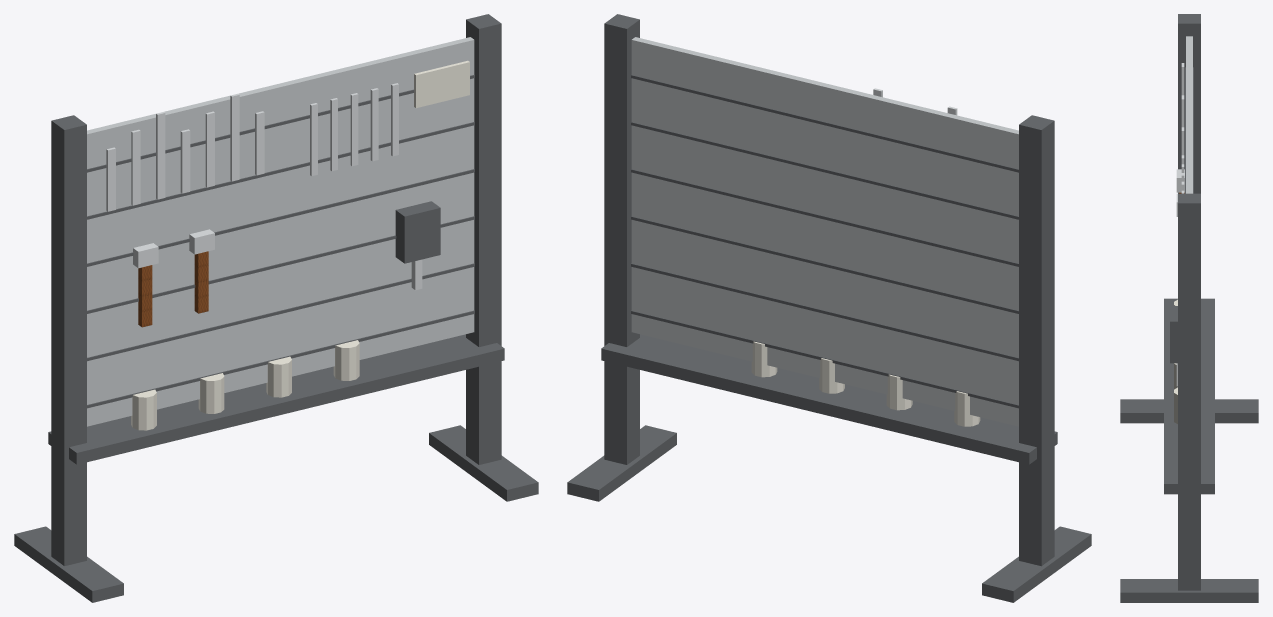
Rendered from pegboard-tool-wall-on-a-stand.glb.
3 views of the same model, side by side, from view 1: azimuth 30°, elevation 25°; view 2: azimuth 150°, elevation 25°; view 3: azimuth 270°, elevation 25° (orthographic). The views are drawn at different scales.
Visible parts, largest first — view 1: machine-shop-and-factory-hall-pegboard-tool-wall; view 2: machine-shop-and-factory-hall-pegboard-tool-wall; view 3: machine-shop-and-factory-hall-pegboard-tool-wall.
Part boxes in pixels (x1,y1,x2,y2): machine-shop-and-factory-hall-pegboard-tool-wall: (14, 14, 538, 602); machine-shop-and-factory-hall-pegboard-tool-wall: (567, 14, 1091, 602); machine-shop-and-factory-hall-pegboard-tool-wall: (1120, 14, 1258, 602).
Bounding box in the file's own units: 1.98 × 1.9 × 0.6.
Materials: 5 (1 with a texture image).
